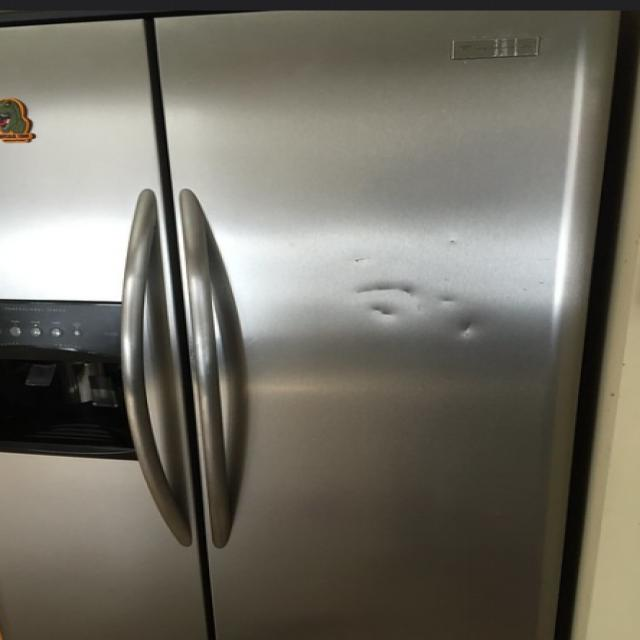dents: (341, 249, 500, 358)
